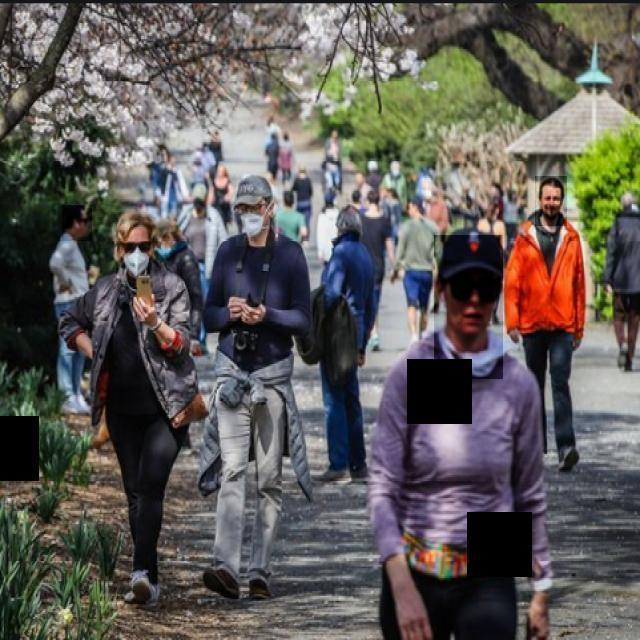hairnet: (432, 294, 501, 372)
mask: (234, 208, 276, 244), (117, 243, 159, 276)
no_gloves: (118, 207, 155, 240)
no_hairnet: (537, 194, 569, 217), (62, 223, 92, 242)
